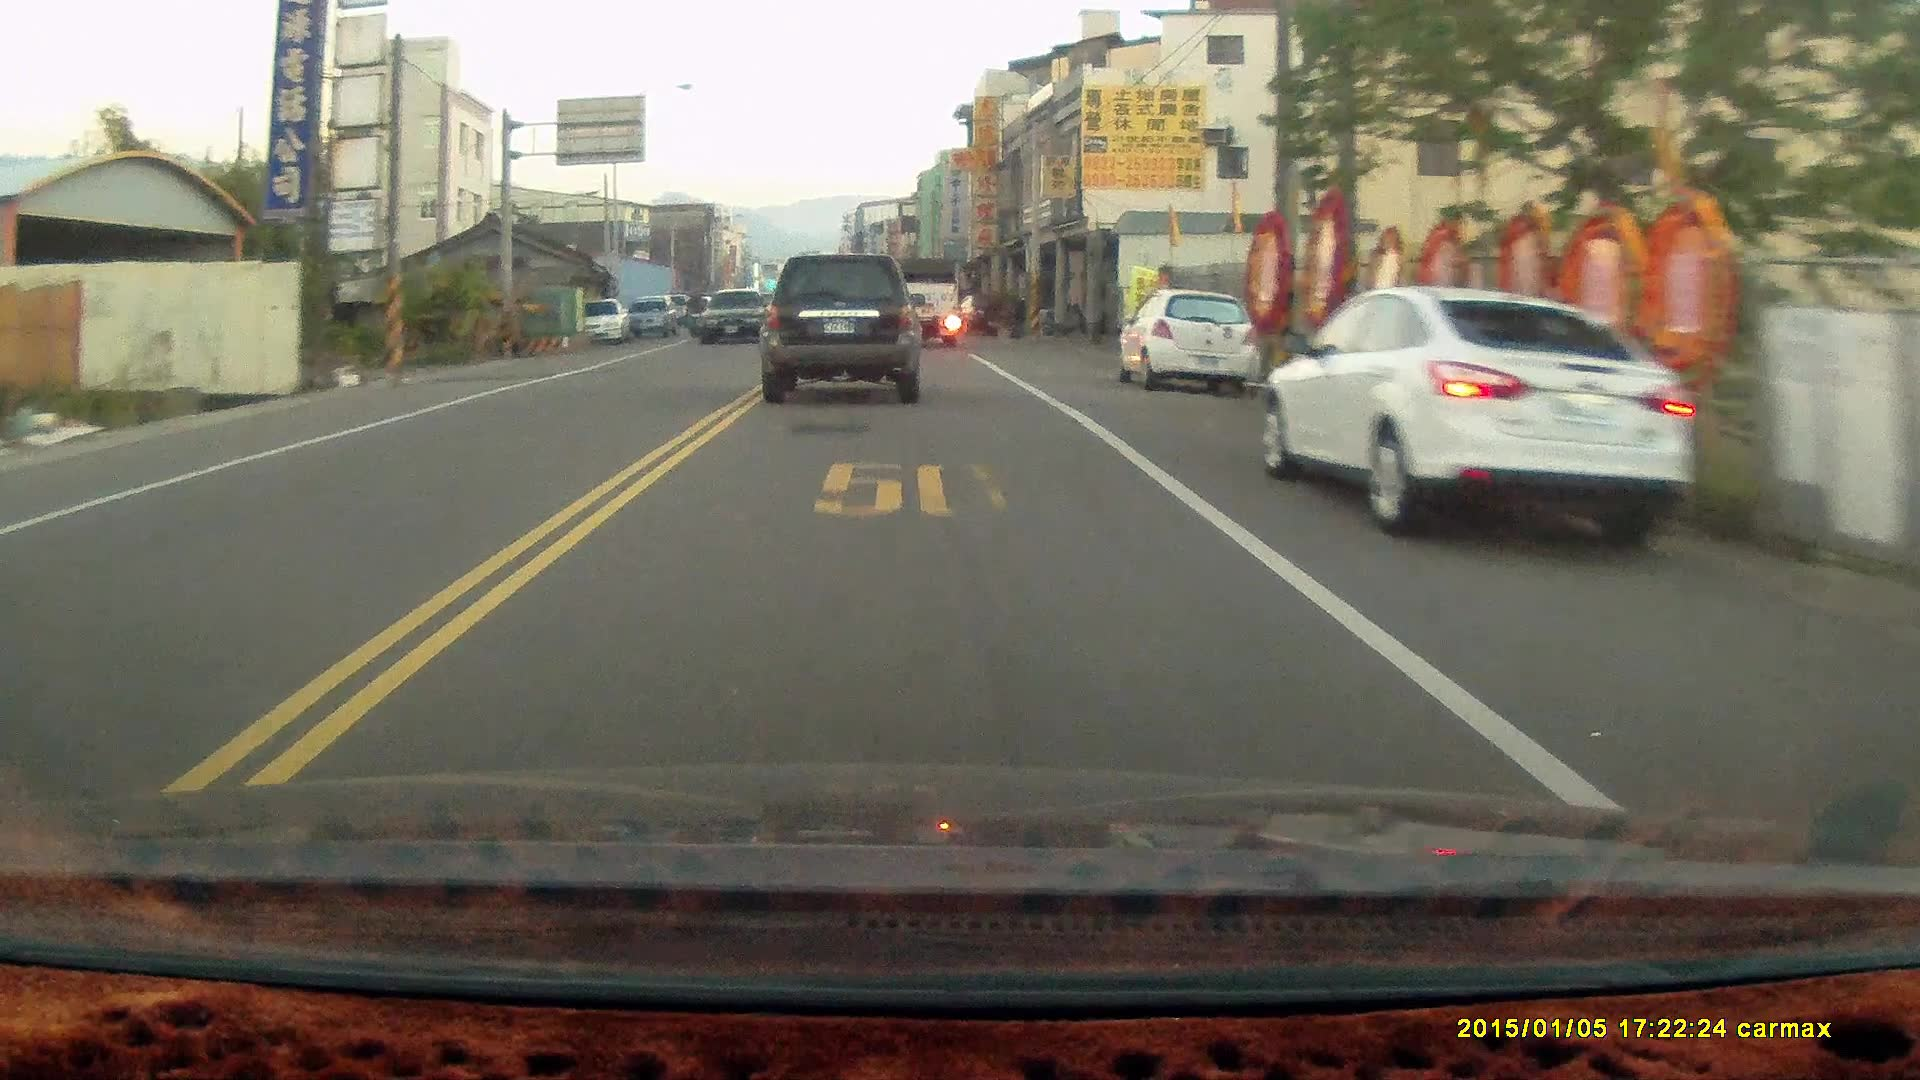vehicle: (1265, 284, 1696, 541), (757, 252, 923, 402), (1116, 287, 1265, 400), (887, 258, 964, 353), (700, 287, 771, 345)
